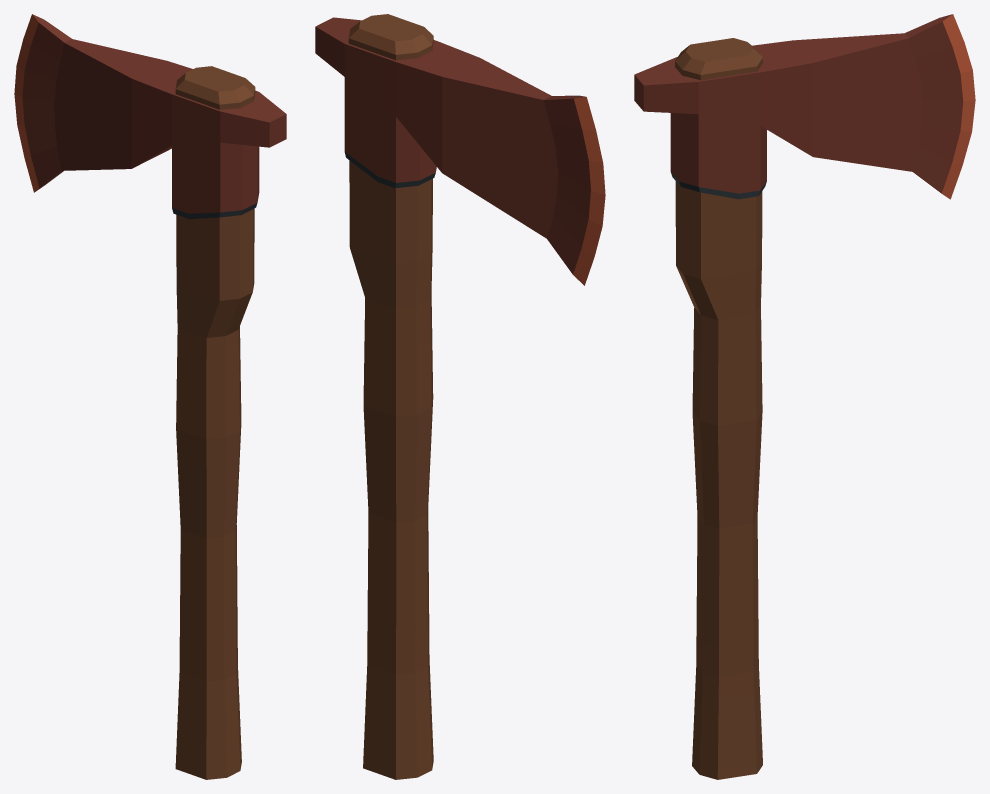
Rendered from axe_copper.glb.
3 views of the same model, side by side, from view 1: azimuth 30°, elevation 25°; view 2: azimuth 210°, elevation 25°; view 3: azimuth 270°, elevation 25° (orthographic). The views are drawn at different scales.
Parts seen in each view (by area): view 1: AxeV12; view 2: AxeV12; view 3: AxeV12.
Boxes of the visible parts, <box> form: AxeV12: <box>14,14,286,779</box>; AxeV12: <box>315,14,605,779</box>; AxeV12: <box>634,14,975,779</box>.
Bounding box in the file's own units: 0.1067 × 0.6234 × 0.2689.
Materials: 3 (3 with a texture image).
